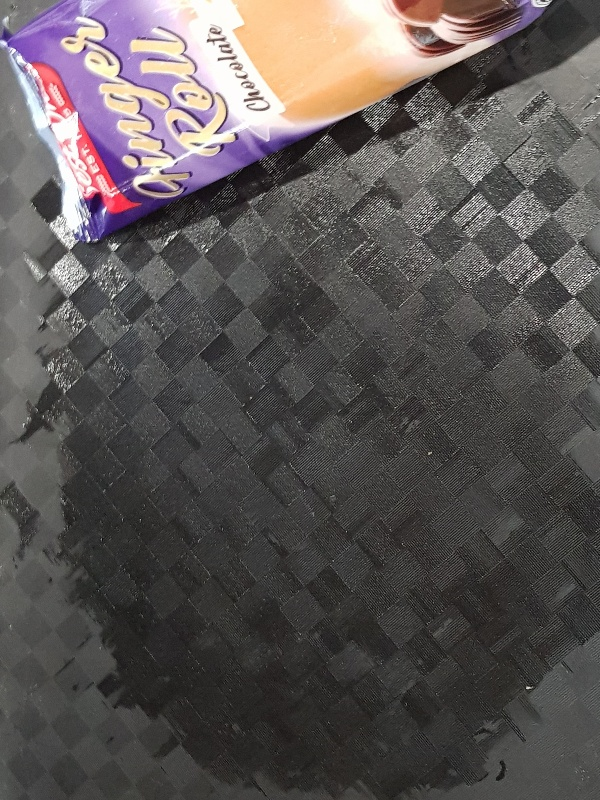Tinges Roll Chocolate: (2, 1, 558, 242)
